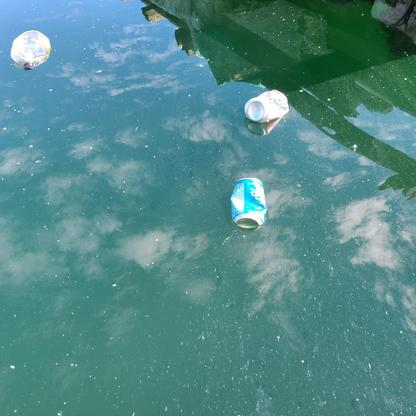can: (230, 176, 267, 230), (244, 89, 289, 122)
